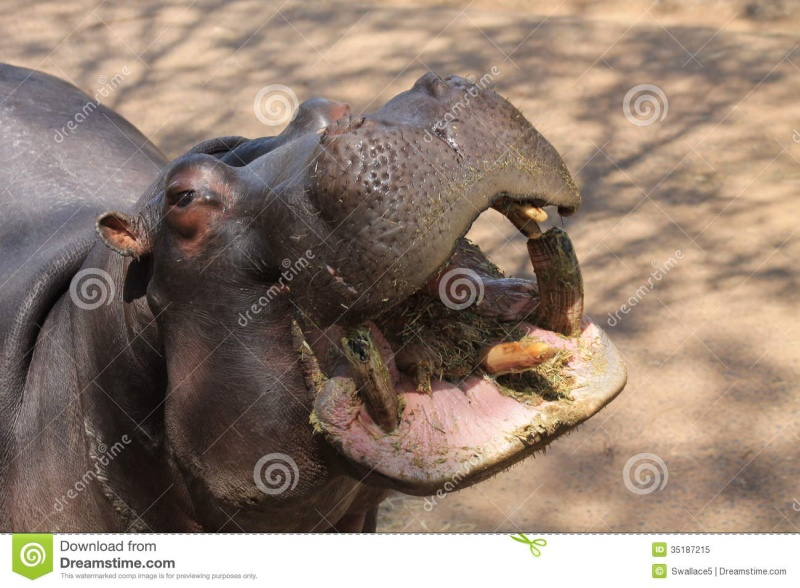hipopotamo: (4, 65, 638, 532)
